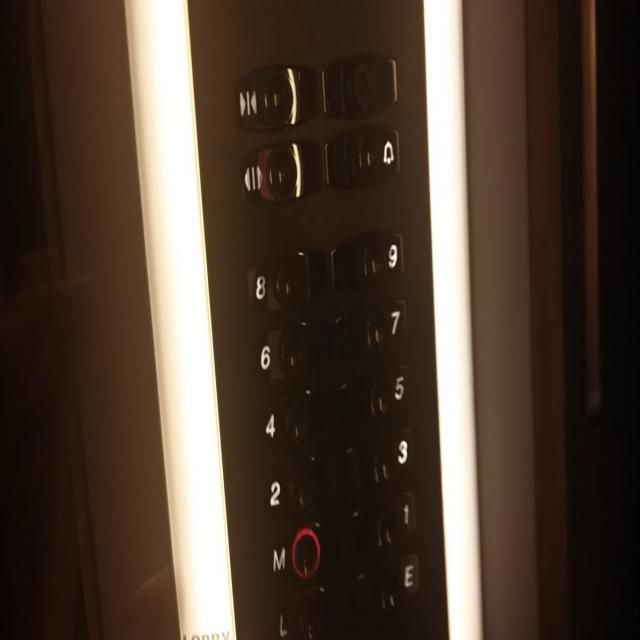1: (341, 492, 417, 554)
2: (257, 452, 333, 515)
3: (336, 434, 412, 494)
4: (252, 384, 331, 445)
5: (333, 368, 410, 427)
6: (247, 314, 330, 379)
7: (329, 292, 409, 358)
8: (244, 246, 329, 313)
9: (330, 226, 406, 290)
E: (343, 554, 420, 615)
L: (262, 581, 340, 639)
M: (259, 518, 336, 582)
alarm: (321, 124, 402, 188)
blur: (318, 48, 400, 116)
close: (231, 58, 316, 130)
open: (231, 135, 322, 207)
